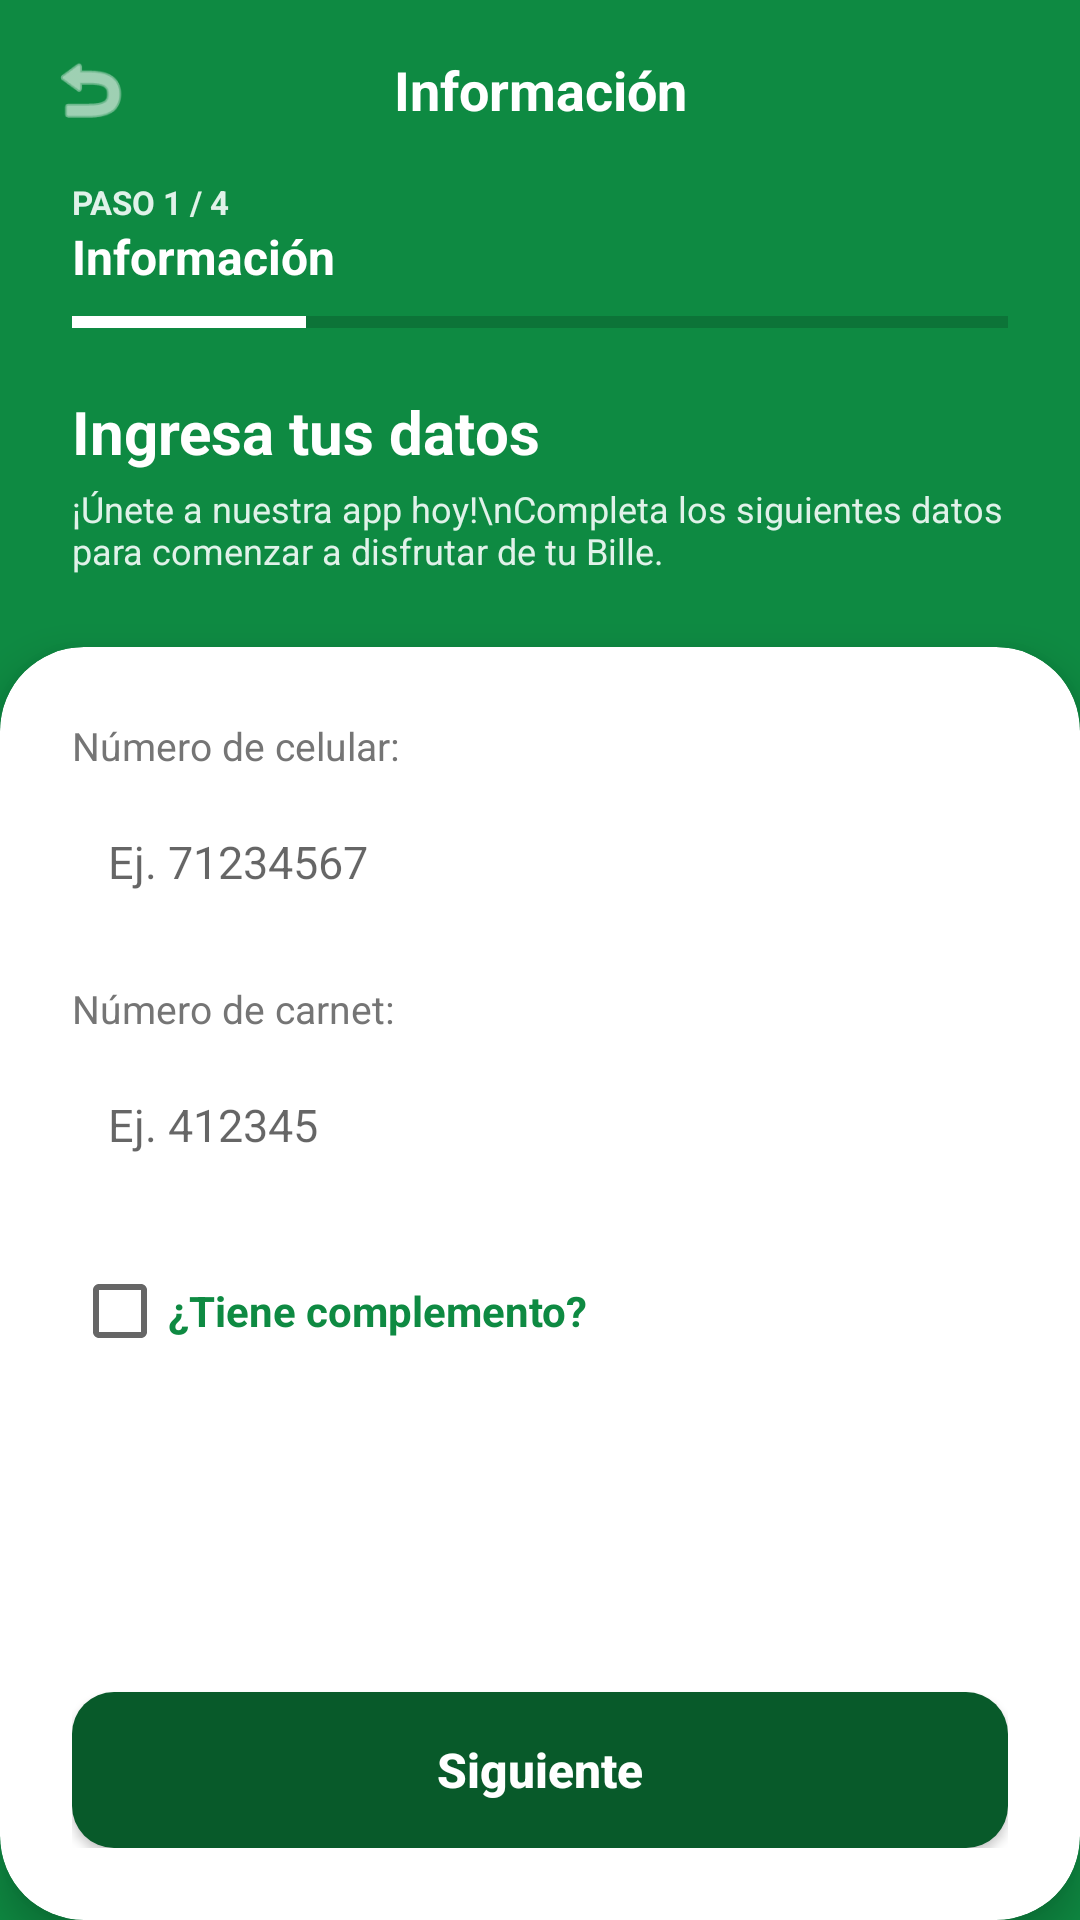

Icon click points for this 1080px x 1920px phone screenshot, format [x,y]:
revert: [91,90]
